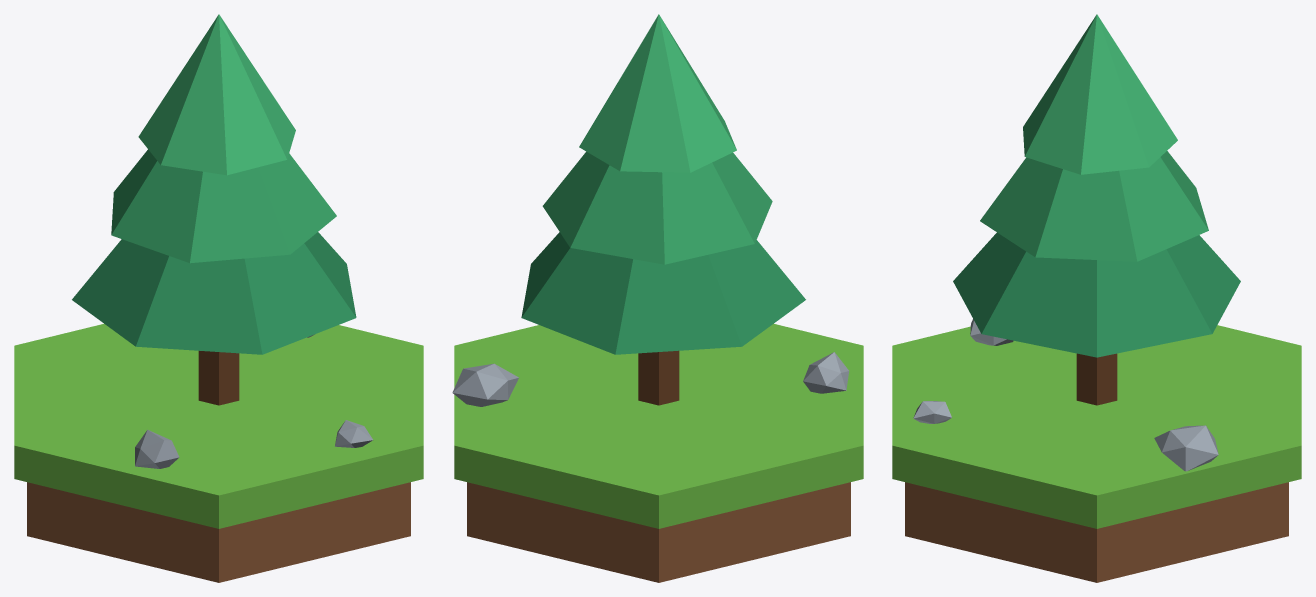
3 views of the same model, side by side, from view 1: azimuth 30°, elevation 25°; view 2: azimuth 150°, elevation 25°; view 3: azimuth 270°, elevation 25° (orthographic).
Parts seen in each view (by area): view 1: part_0, part_3, part_1, part_4, part_5, part_2, part_7, part_8; view 2: part_0, part_3, part_1, part_4, part_5, part_2, part_6, part_7; view 3: part_0, part_3, part_1, part_4, part_5, part_6, part_2, part_8.
Part boxes in pixels (box(x1,y1,x2,y2)): part_0: box(14, 324, 423, 528); part_3: box(72, 232, 356, 354); part_1: box(27, 482, 410, 582); part_4: box(111, 149, 336, 263); part_5: box(138, 14, 295, 175); part_2: box(198, 351, 239, 405); part_7: box(135, 429, 179, 468); part_8: box(335, 420, 372, 447); part_0: box(454, 324, 863, 528); part_3: box(521, 232, 805, 354); part_1: box(467, 482, 850, 582); part_4: box(542, 151, 772, 264); part_5: box(579, 14, 736, 172); part_2: box(638, 350, 679, 405); part_6: box(452, 363, 518, 406); part_7: box(803, 352, 849, 393); part_0: box(892, 325, 1301, 528); part_3: box(953, 232, 1240, 357); part_1: box(905, 482, 1288, 582); part_4: box(980, 151, 1208, 261); part_5: box(1023, 14, 1177, 174); part_6: box(1154, 425, 1218, 471); part_2: box(1076, 353, 1117, 405); part_8: box(913, 401, 951, 423).
Size of the model in its own units: 3.2 by 3.55 by 2.77.
